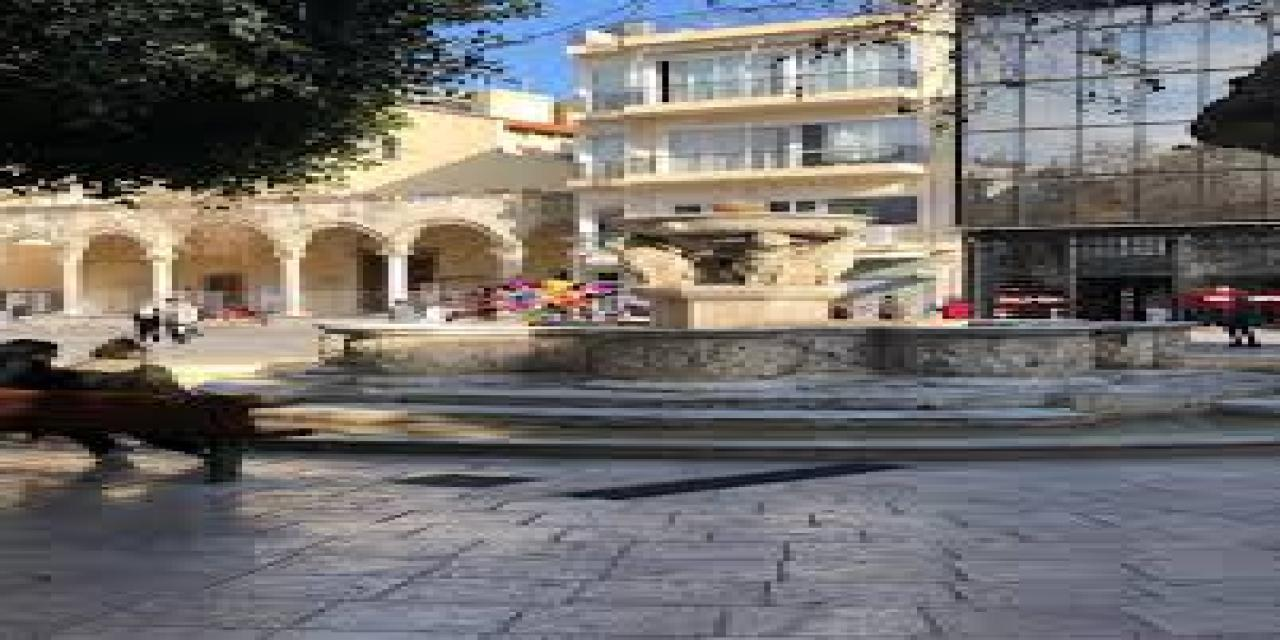Liontaria: (338, 214, 1186, 385)
